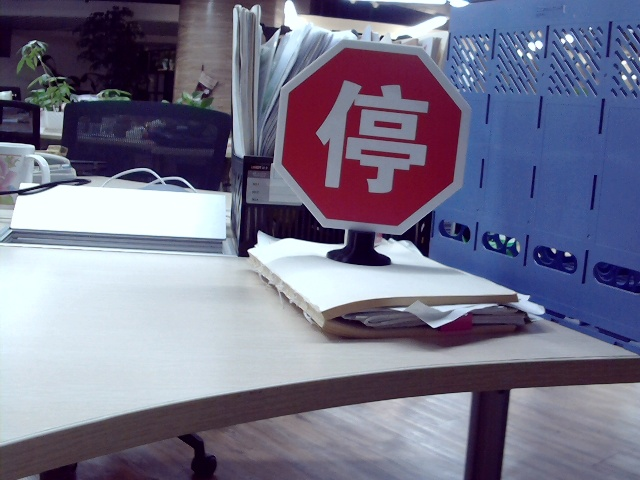stop: (317, 74, 430, 196)
